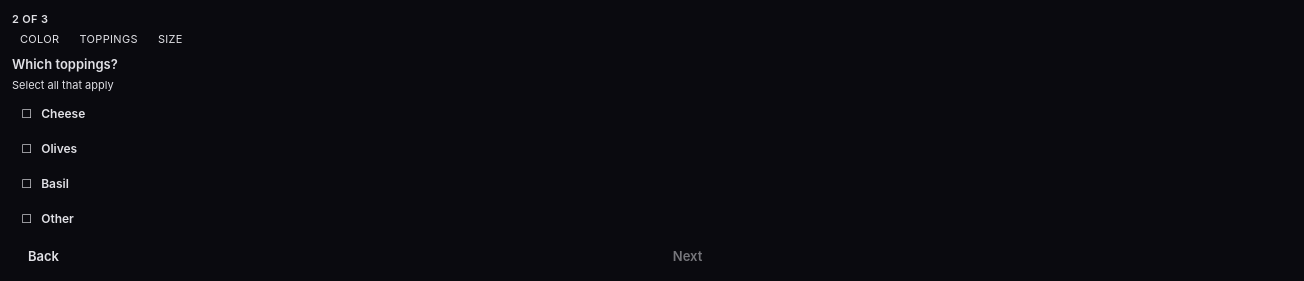
Scenario: QuestionWizard steps › Back posts back and shows the selection the pane reports
Check: the text "2 of 3" is shown, box [12, 12, 48, 26]
Click the button "Back" at (44,256), box [12, 248, 75, 264]
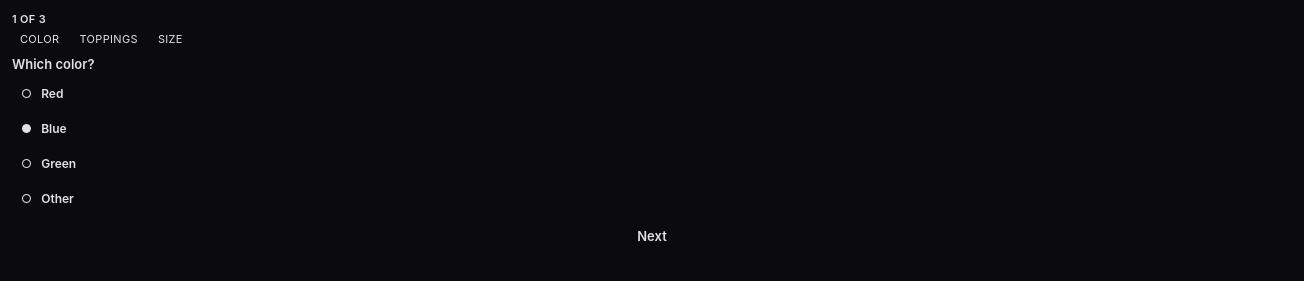
Check: the text "1 of 3" is shown, box [12, 12, 46, 26]
Check: the button "Next" is enabled, box [12, 228, 1292, 244]
